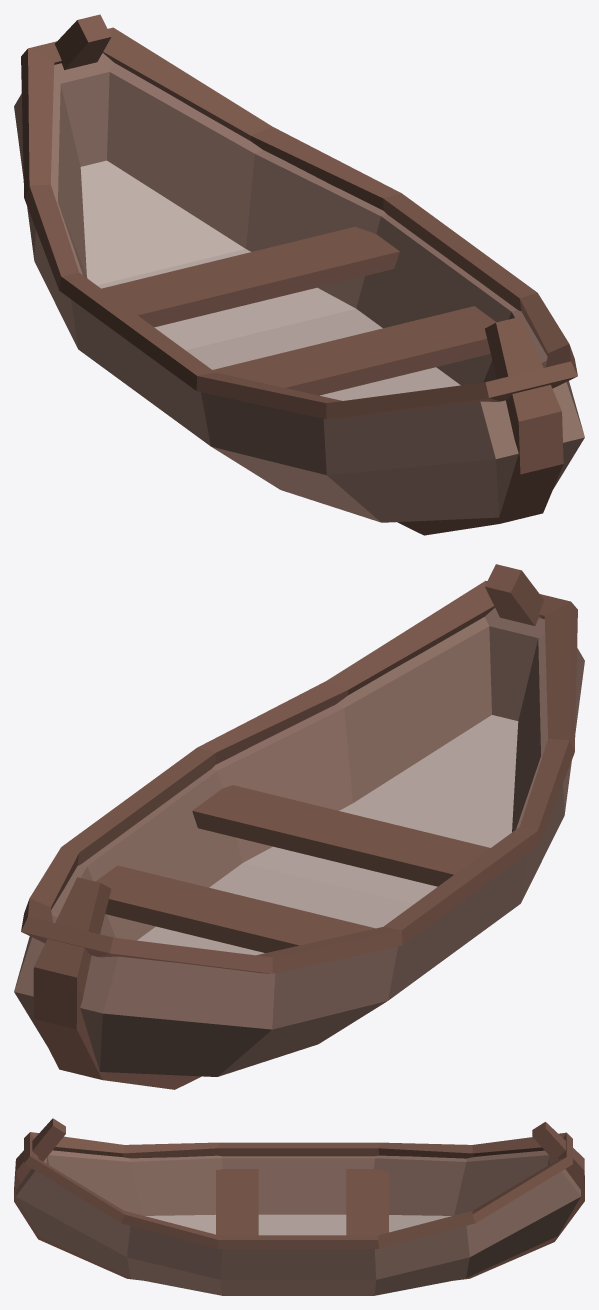
The model's file is prop_025.fbx.
3 renders of one model, top to bottom at view 1: azimuth 30°, elevation 25°; view 2: azimuth 150°, elevation 25°; view 3: azimuth 270°, elevation 25°, orthographic. The views are drawn at different scales.
Visible parts, largest first — view 1: prop.025; view 2: prop.025; view 3: prop.025.
Boxes of the visible parts, bbox=[...] form: prop.025: bbox=[14, 14, 584, 535]; prop.025: bbox=[14, 564, 584, 1089]; prop.025: bbox=[14, 1118, 584, 1295].
Bounding box in the file's own units: 271 × 208 × 666.
1 material, 1 textured.
